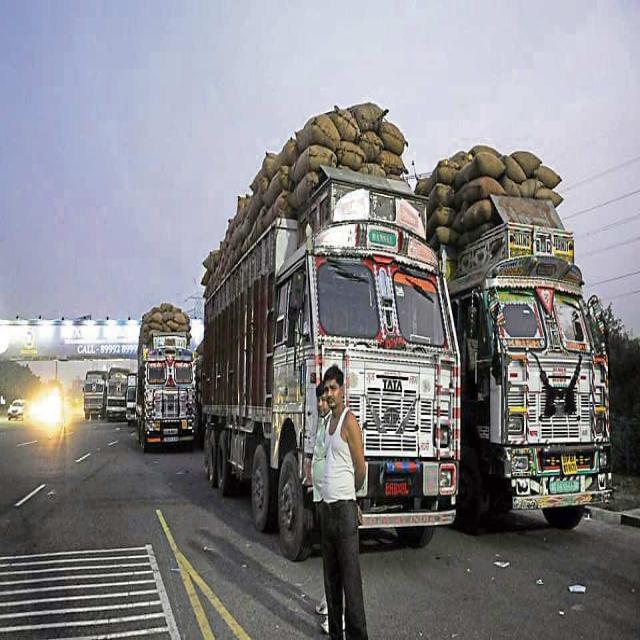truck: (201, 103, 460, 560), (415, 145, 610, 532), (138, 303, 195, 451)
